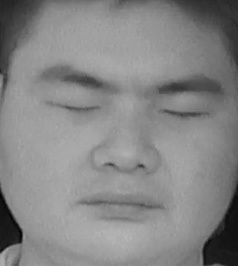blink: (158, 92, 212, 133), (48, 89, 103, 124)
mouth: (76, 184, 166, 229)
